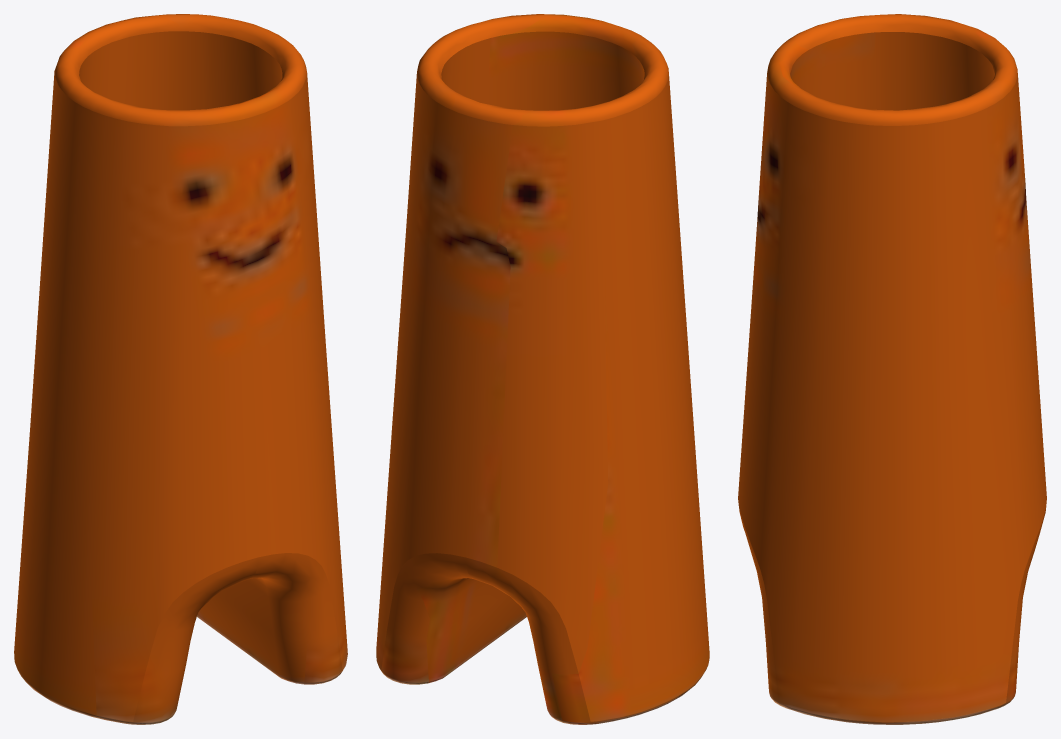
Rendered from bb2a38ftb616.glb.
3 renders of one model, left to right at view 1: azimuth 30°, elevation 25°; view 2: azimuth 150°, elevation 25°; view 3: azimuth 270°, elevation 25°, orthographic.
Parts seen in each view (by area): view 1: ASY_ART_20591921_S01_NV01; view 2: ASY_ART_20591921_S01_NV01; view 3: ASY_ART_20591921_S01_NV01.
Part boxes in pixels (x1,y1,x2,y2): ASY_ART_20591921_S01_NV01: (14, 14, 347, 724); ASY_ART_20591921_S01_NV01: (376, 14, 709, 724); ASY_ART_20591921_S01_NV01: (738, 14, 1046, 724).
Size of the model in its own units: 0.0718 by 0.1415 by 0.0668.
Materials: 1 (1 with a texture image).
